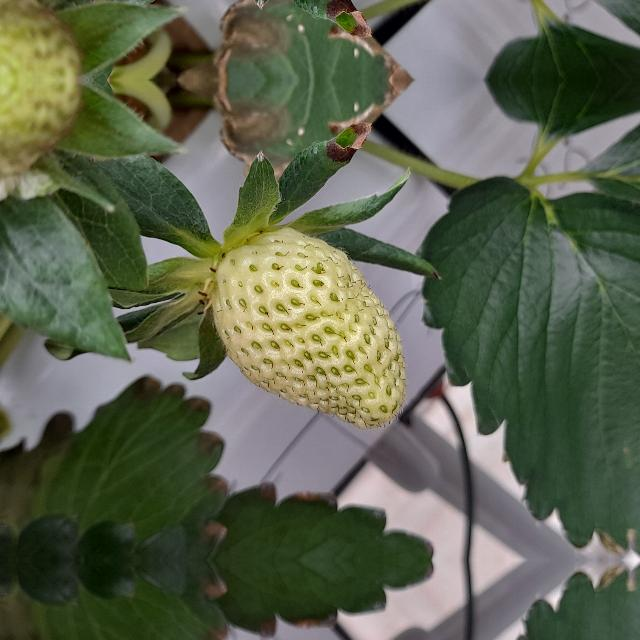Health_25: (210, 226, 406, 428)
